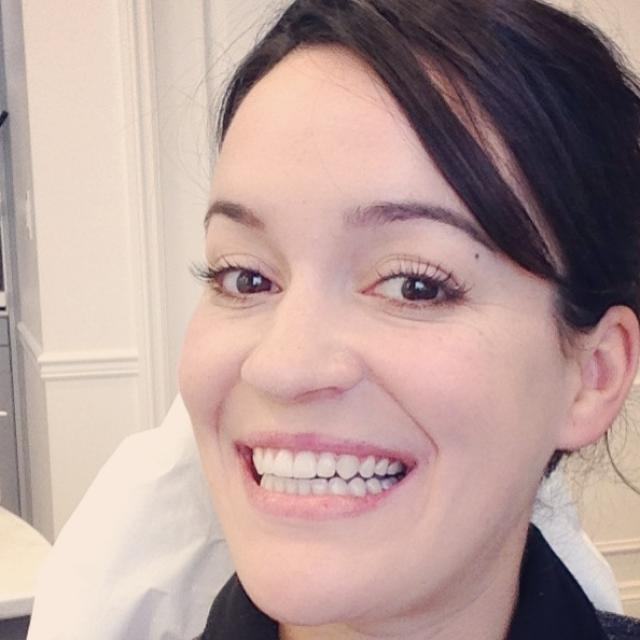Normal: (177, 38, 574, 626)
